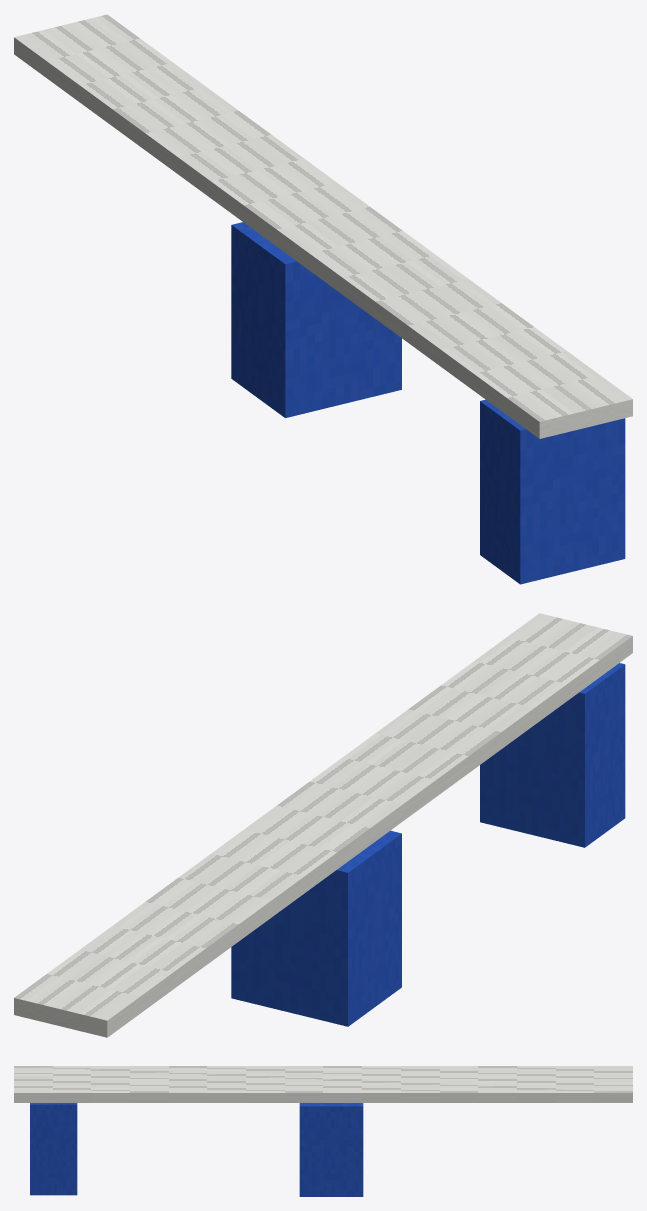
File: springboard_1m.obj
3 renders of one model, top to bottom at view 1: azimuth 30°, elevation 25°; view 2: azimuth 150°, elevation 25°; view 3: azimuth 270°, elevation 25°, orthographic. The views are drawn at different scales.
Parts seen in each view (by area): view 1: springboard_1m; view 2: springboard_1m; view 3: springboard_1m.
Part boxes in pixels (<box>): springboard_1m: <box>14,14,632,584</box>; springboard_1m: <box>14,613,632,1037</box>; springboard_1m: <box>14,1066,632,1196</box>.
Size of the model in its own units: 0.625 by 0.875 by 4.88.
